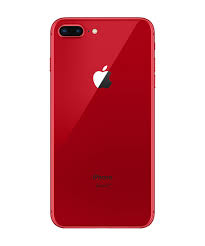iphone: (48, 15, 156, 232)
iphone8: (48, 15, 156, 232)
